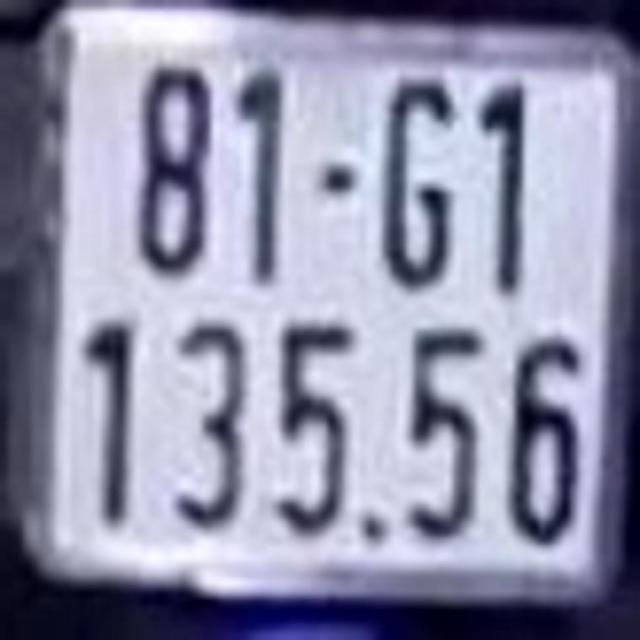1: (225, 62, 284, 284), (472, 72, 532, 290), (78, 311, 132, 524)
3: (173, 318, 244, 526)
5: (403, 313, 485, 545), (276, 314, 344, 533)
6: (509, 321, 582, 545)
8: (138, 61, 212, 274)
G: (385, 63, 456, 288)
